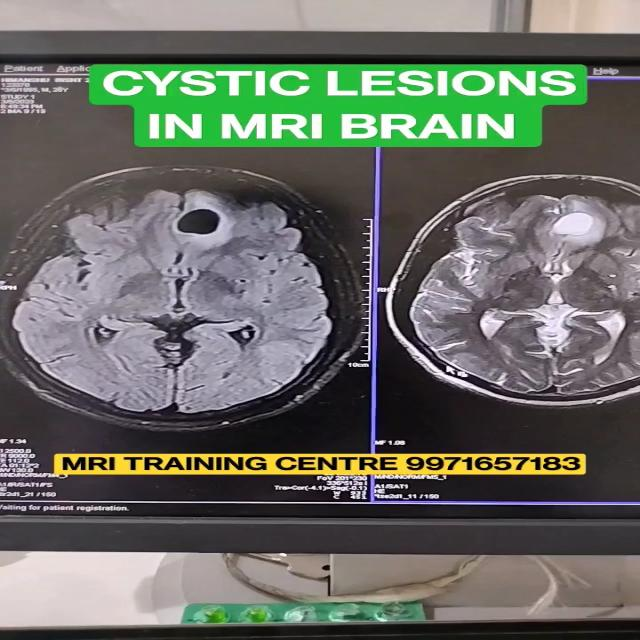tumor: (543, 216, 620, 255), (170, 199, 240, 241)
